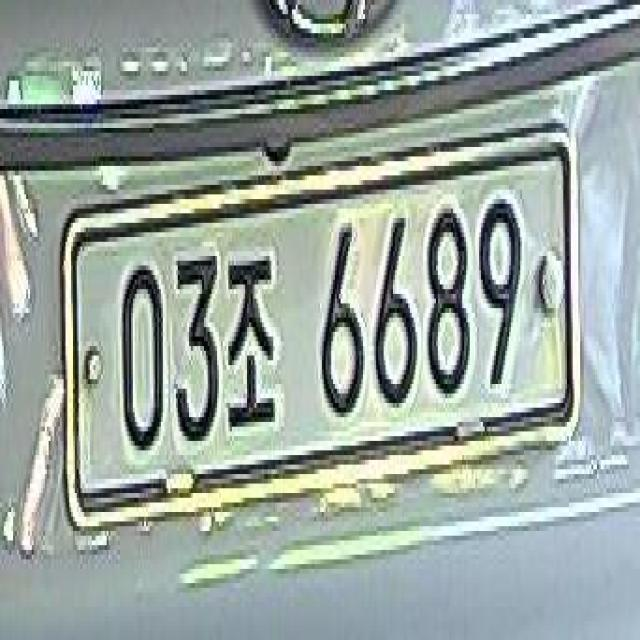illegal_plate: (69, 133, 582, 528)
